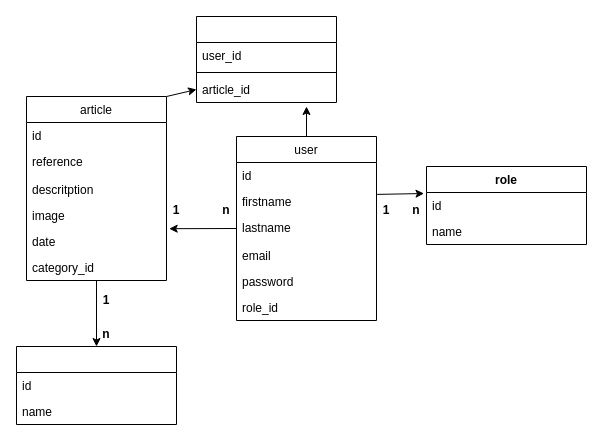
Some shapes in this 603 by 441 pixel diagram are drawn without their labels. The box of each missing label's shape, as (x1, y1, x2, y2) in pixels:
category: (16, 346, 176, 424)
favoris: (196, 16, 336, 102)
